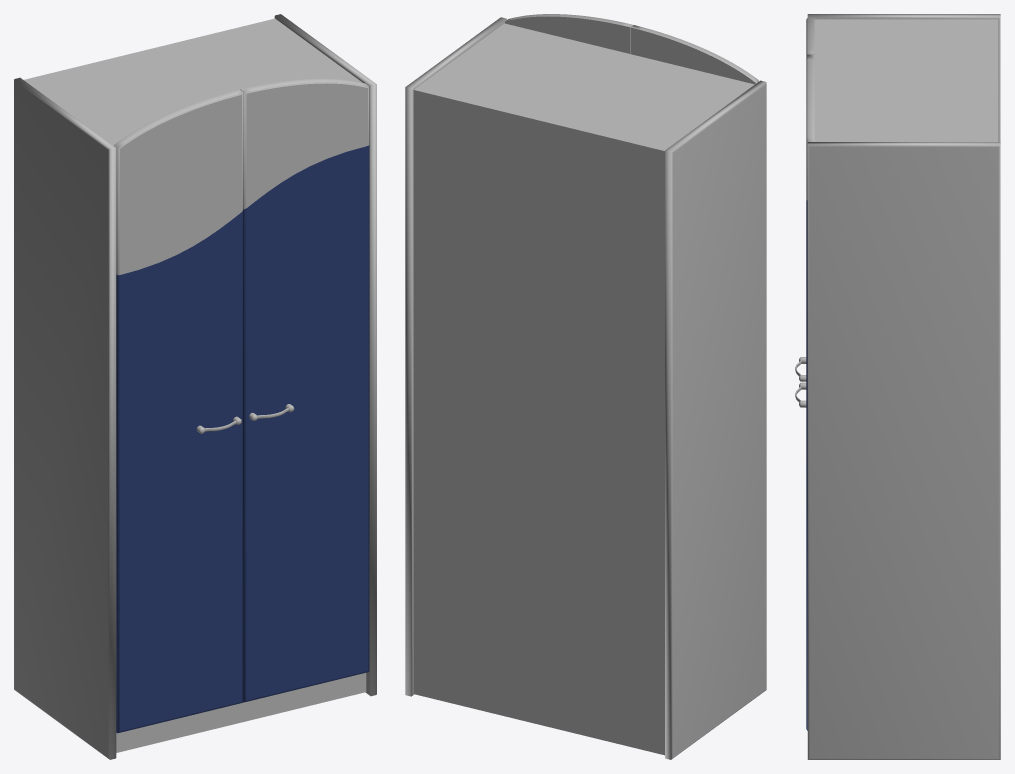
File: Closet_1.fbx
3 views of the same model, side by side, from view 1: azimuth 30°, elevation 25°; view 2: azimuth 150°, elevation 25°; view 3: azimuth 270°, elevation 25° (orthographic).
Visible parts, largest first — view 1: Closet_1; view 2: Closet_1; view 3: Closet_1.
Part boxes in pixels (x1,y1,x2,y2): Closet_1: [14, 14, 376, 759]; Closet_1: [405, 14, 766, 759]; Closet_1: [795, 14, 1000, 759].
Size of the model in its own units: 99.33 by 225 by 65.27.
